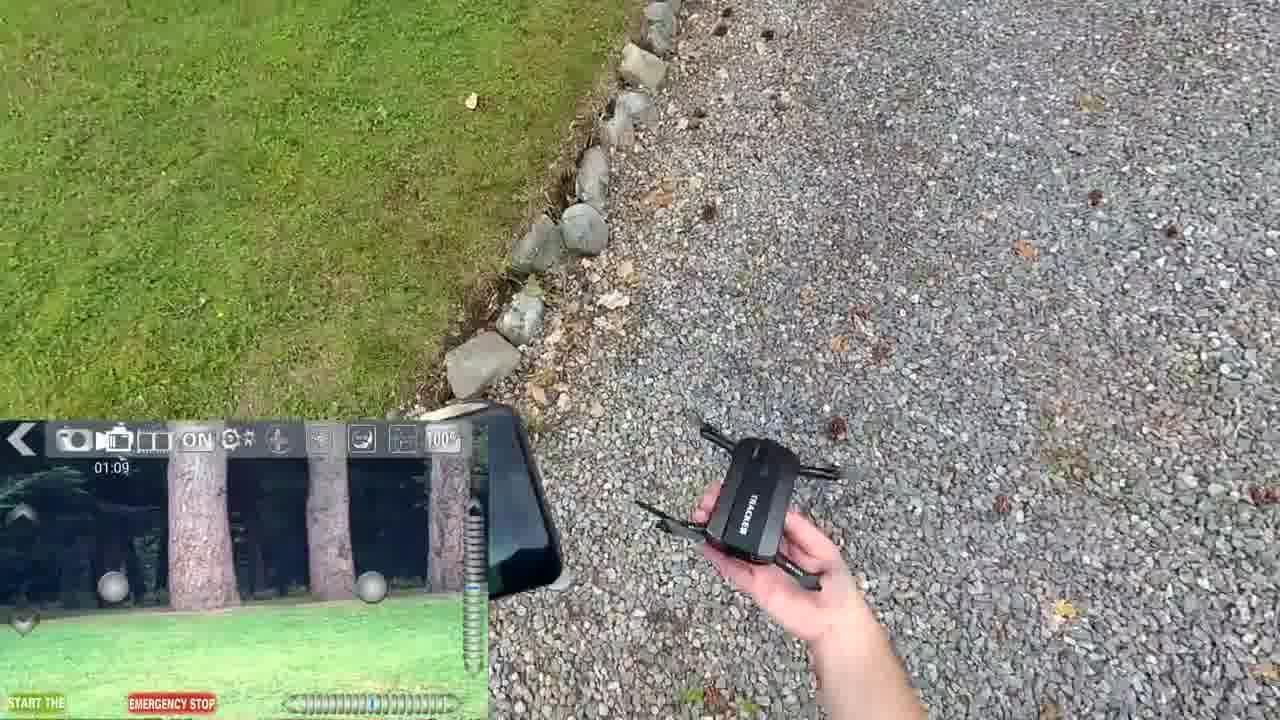drone: (633, 387, 852, 599)
